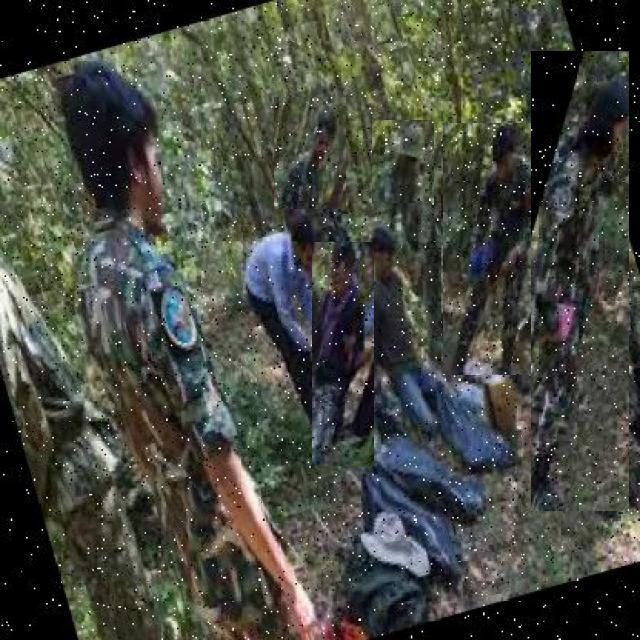poacher: (69, 23, 163, 622), (531, 51, 629, 511), (443, 123, 531, 375), (370, 226, 464, 400), (312, 242, 374, 466), (274, 97, 346, 209), (372, 120, 434, 203)
